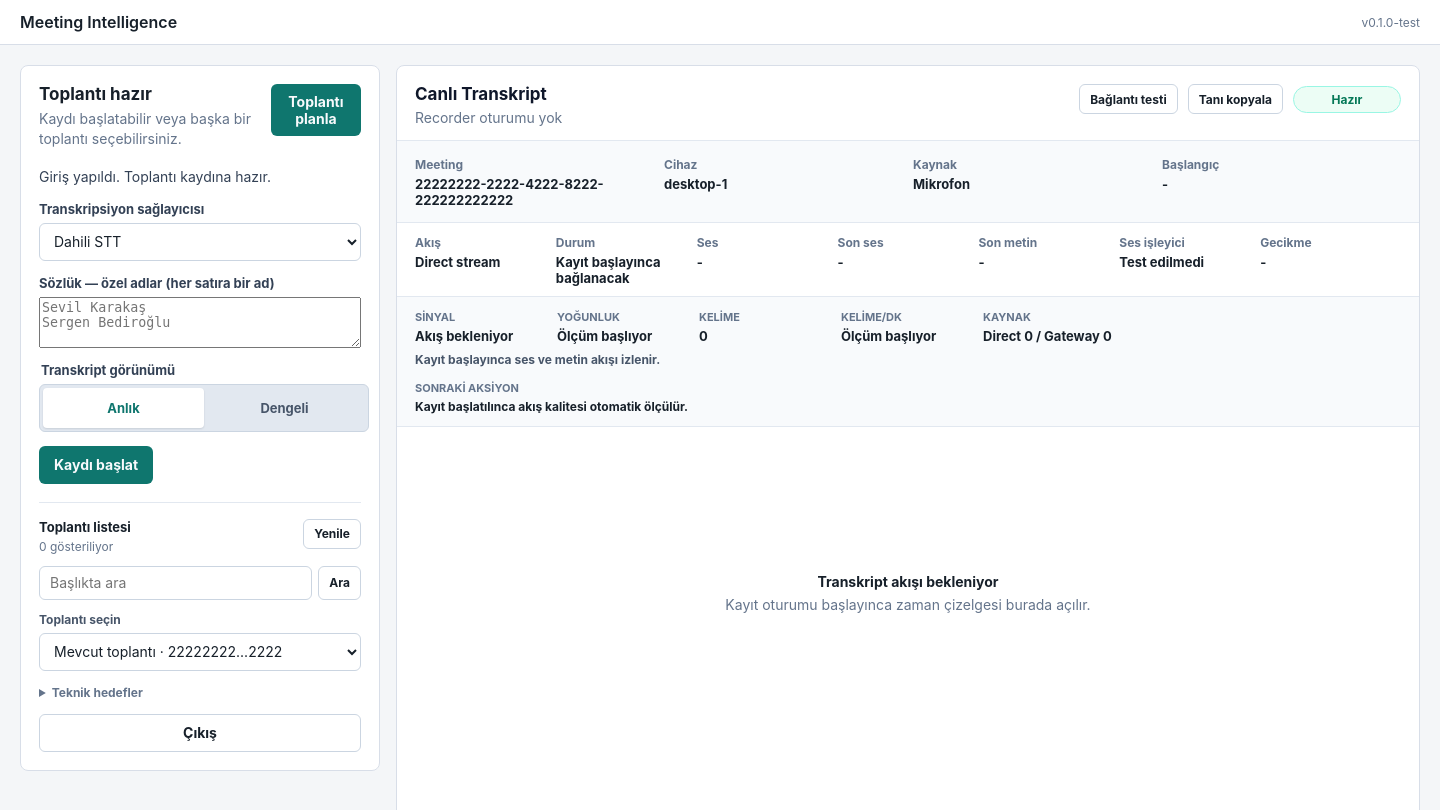
Scenario: App recorder readiness › direct STT hazir degilse uyari gosterir ama mikrofon kaydini baslatir
Click the button "Bağlantı testi". click: (1128,99)
box: [1079, 84, 1178, 114]
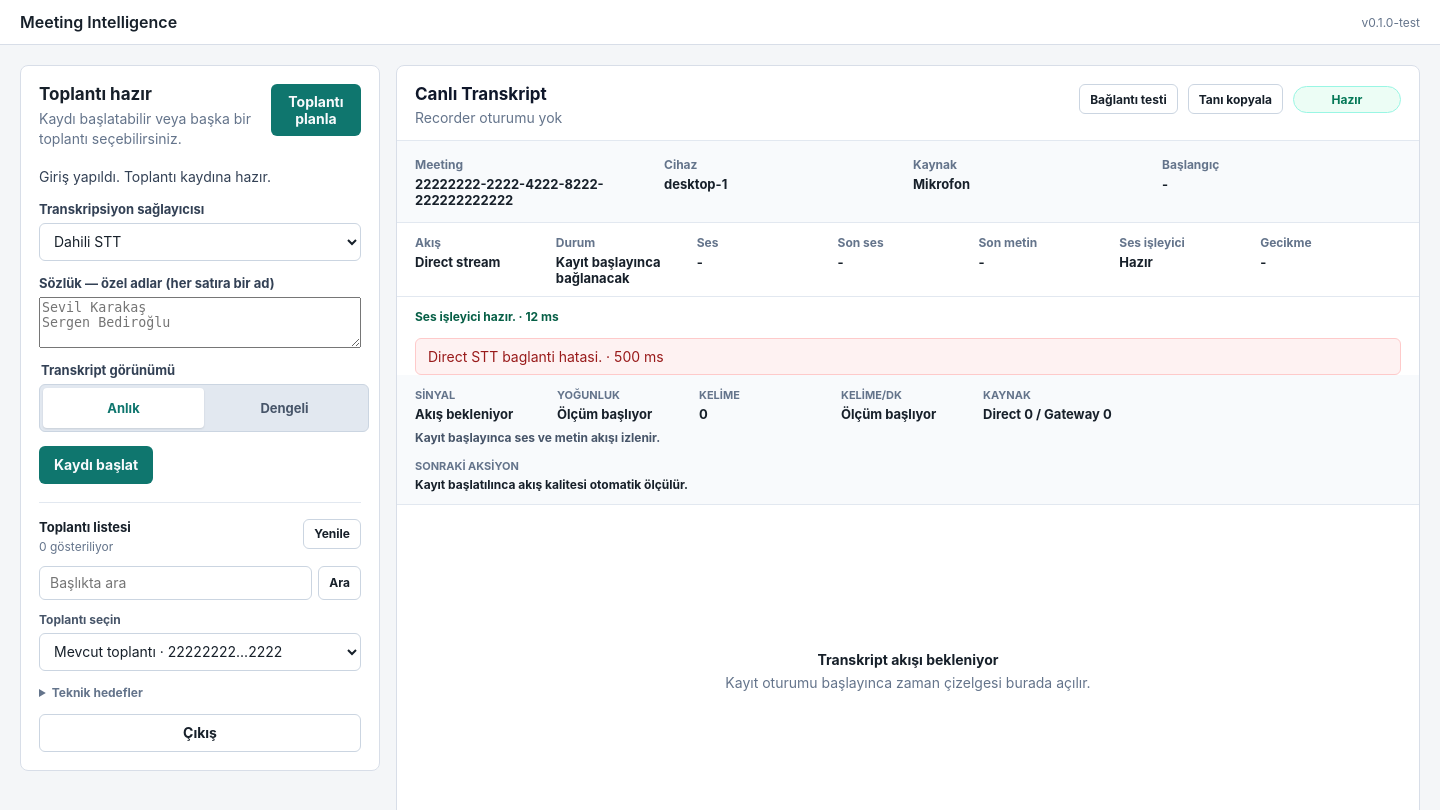
Expected: the text "Direct STT baglanti hatasi. · 500 ms" is shown, [415, 338, 1401, 375]
Click the button with aria-label "Kaydet". click: (96,465)
box: [39, 446, 153, 484]
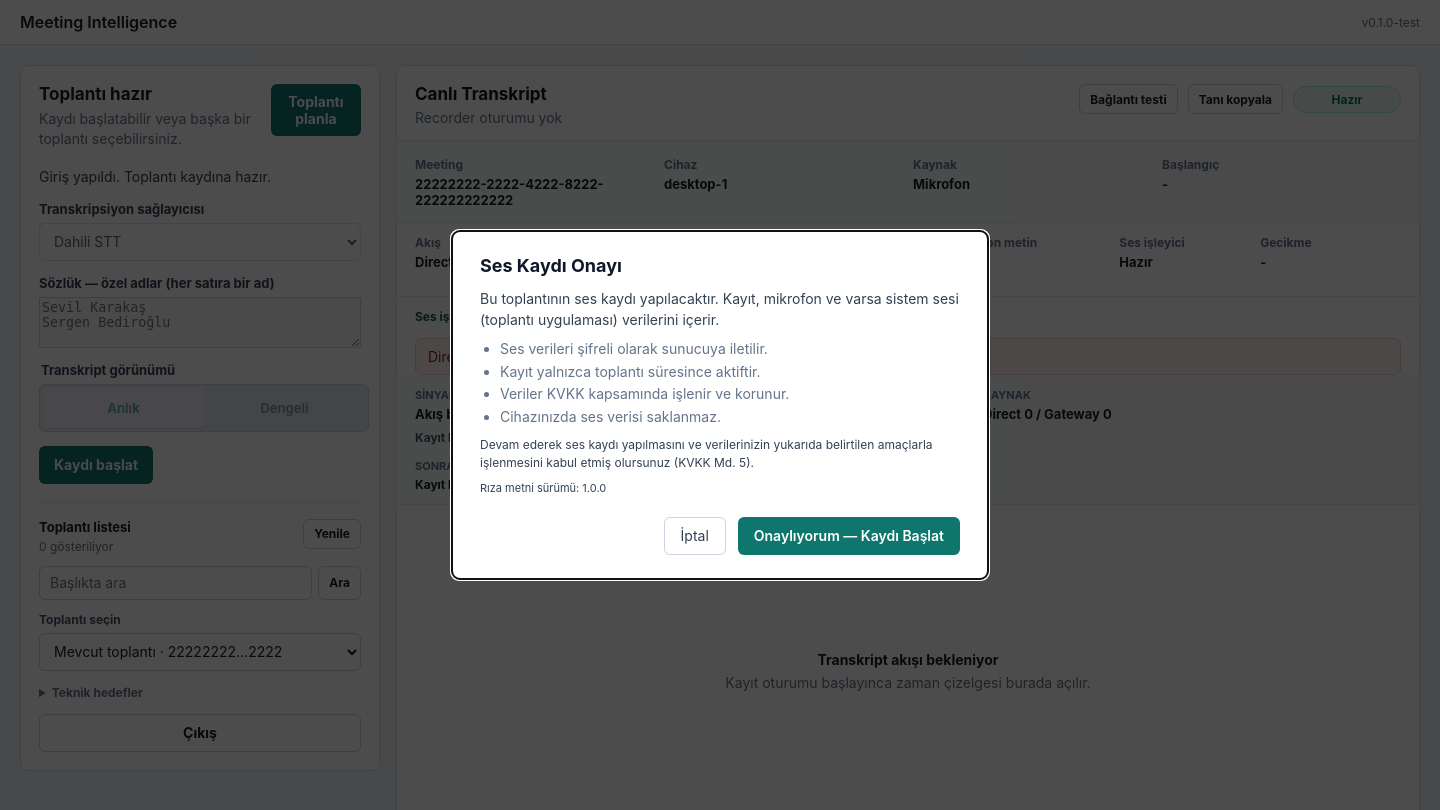
Click the button "Onaylıyorum — Kaydı Başlat". click: (849,536)
box: [738, 516, 960, 554]
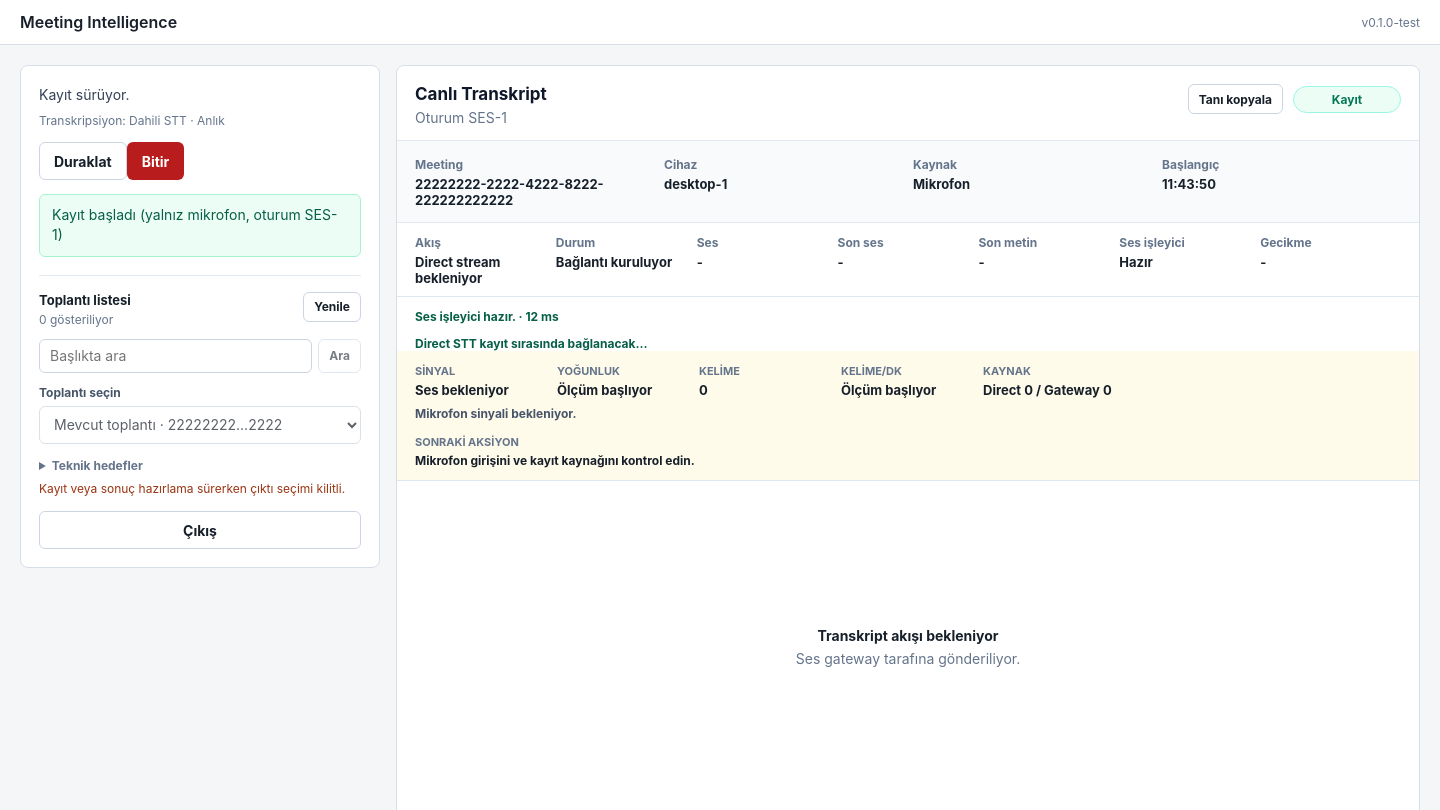
Expected: the text "Kayıt başladı (yalnız mikrofon, oturum SES-1)" is shown, [39, 194, 361, 257]
Expected: the text "Direct STT baglanti hatasi. · 500 ms" is gone
Expected: the text "Direct STT kayıt sırasında bağlanacak..." is shown, [415, 336, 648, 351]
